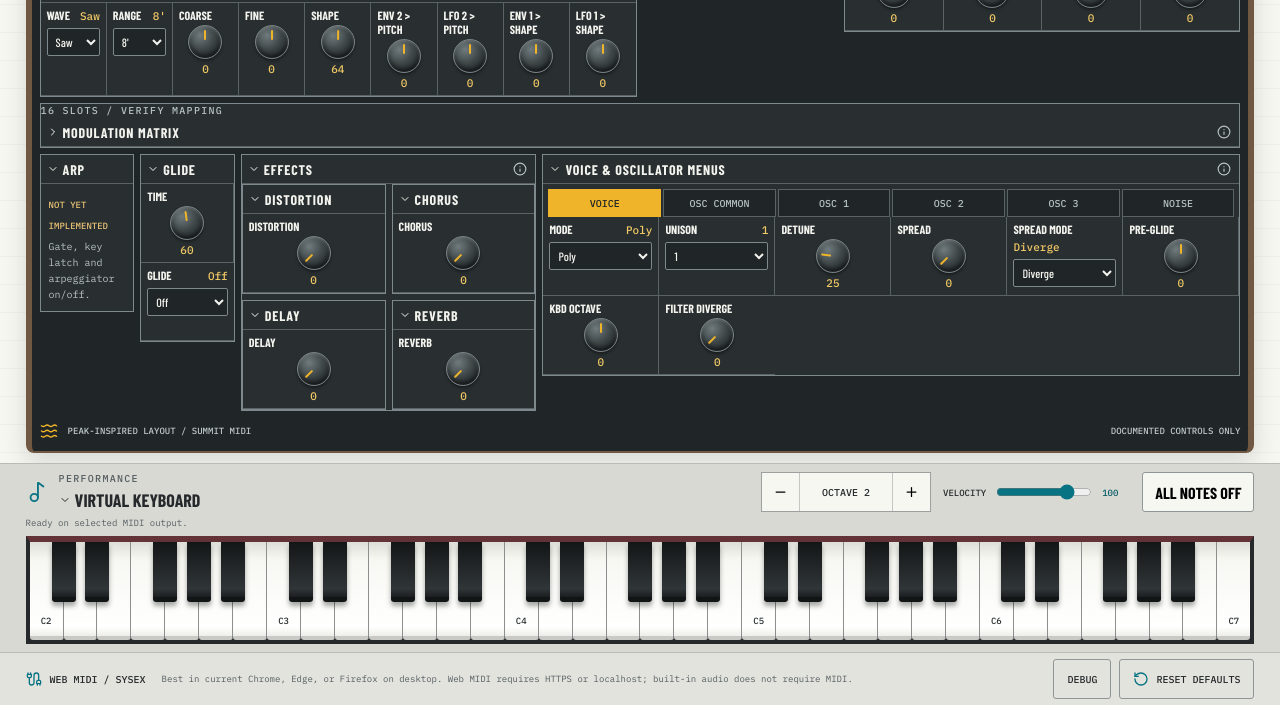
Test case: MIDI capability states › stops held notes when resizing to fewer visible octaves
The width and height of the screenshot is (1280, 705).
(page scrolled)
Press the mouse on the button named "Play C 7" at (1234, 591), box [1217,542,1250,640]
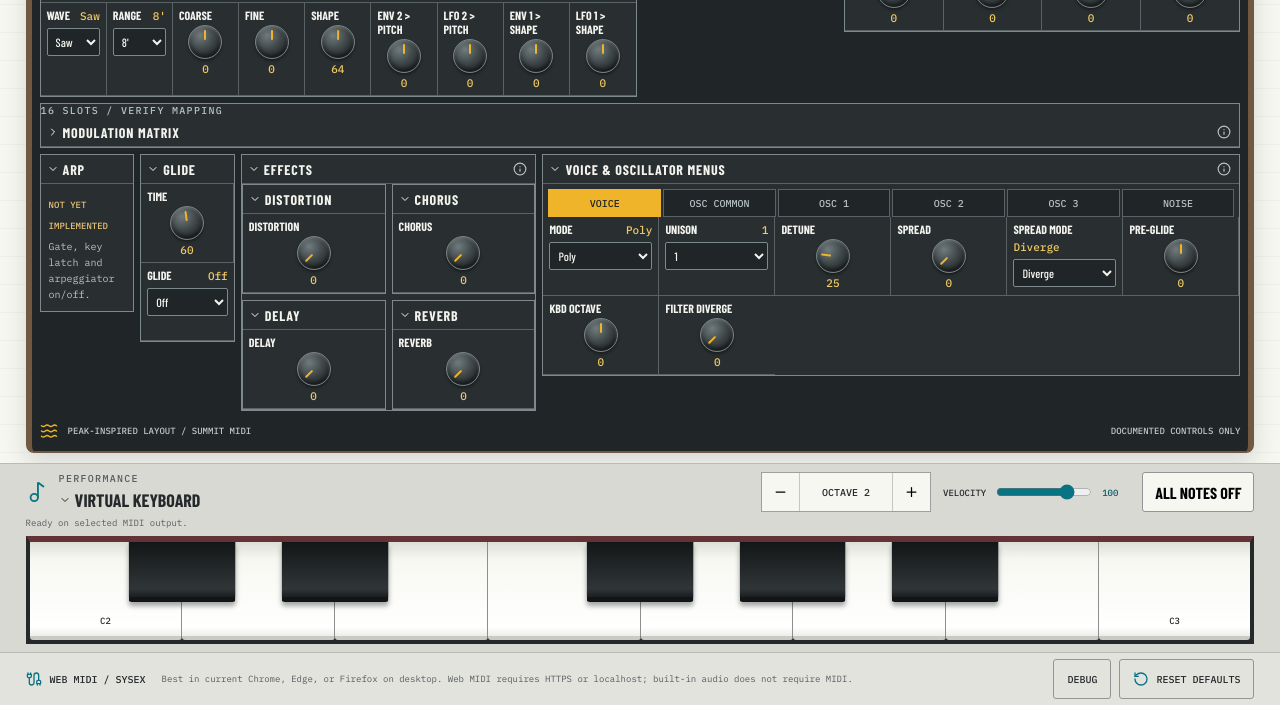
Expected: the number of buttons named "Play " is 13
